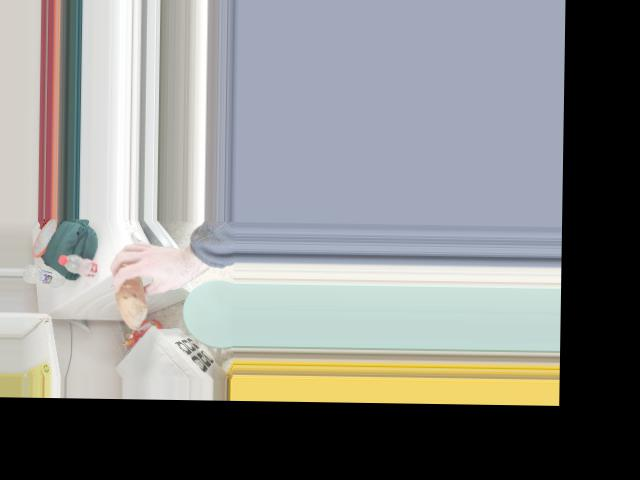sweet_potato: (118, 269, 141, 316)
